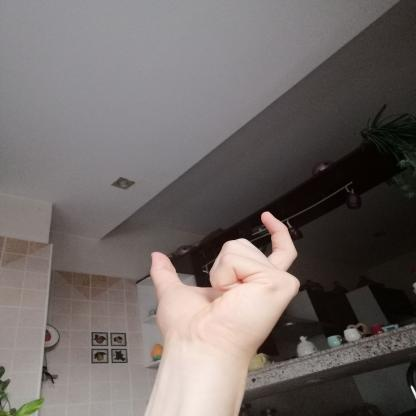NOON: (132, 202, 316, 371)
